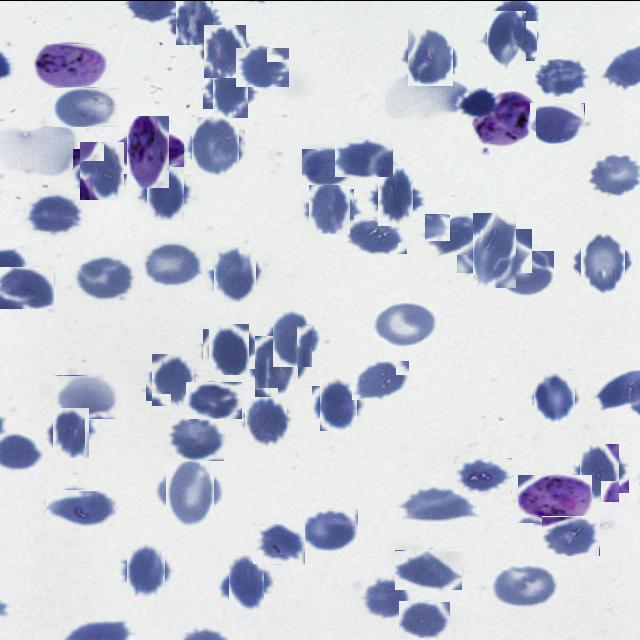difficult: (518, 474, 592, 522)
red blood cell: (465, 220, 524, 280), (160, 462, 220, 520), (372, 300, 438, 346), (490, 564, 560, 607), (188, 119, 242, 173), (142, 240, 205, 285), (54, 374, 118, 418), (576, 236, 630, 288), (250, 339, 302, 392), (395, 549, 463, 589), (75, 255, 135, 300), (400, 487, 475, 523), (496, 250, 554, 296), (404, 31, 456, 82), (76, 145, 128, 196), (53, 86, 119, 126), (46, 489, 117, 526), (167, 414, 224, 460), (210, 248, 260, 298), (482, 15, 532, 65), (301, 508, 358, 550), (425, 213, 483, 254), (268, 314, 317, 362), (576, 448, 624, 497), (352, 359, 410, 399), (542, 515, 600, 555), (201, 26, 249, 74), (26, 193, 82, 234), (0, 266, 54, 308), (372, 172, 419, 220), (530, 102, 585, 143), (242, 396, 290, 442), (335, 138, 393, 176), (535, 58, 590, 98), (223, 559, 270, 605), (149, 356, 196, 402), (236, 46, 290, 86), (346, 218, 407, 253), (532, 374, 578, 420), (124, 546, 170, 592), (316, 381, 362, 427), (142, 170, 188, 216), (206, 325, 252, 371), (306, 186, 352, 232), (455, 457, 512, 494), (253, 523, 305, 563), (186, 381, 242, 418), (208, 67, 253, 113), (302, 148, 355, 187), (590, 153, 639, 195), (362, 579, 411, 619), (399, 600, 451, 637), (49, 410, 92, 454), (173, 0, 218, 41)
trophozoite: (119, 122, 177, 180), (474, 90, 536, 144), (33, 42, 108, 86)
